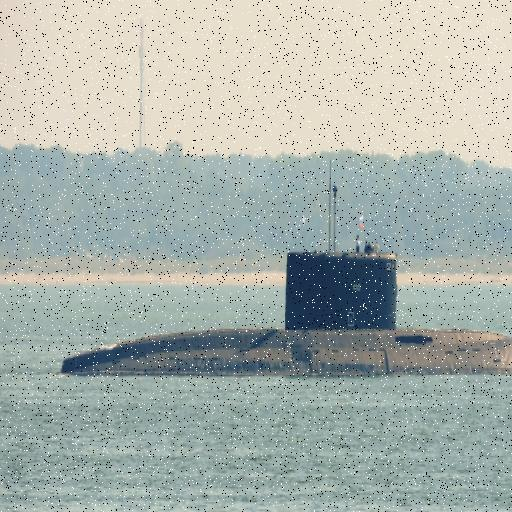submarine: (60, 246, 512, 373)
